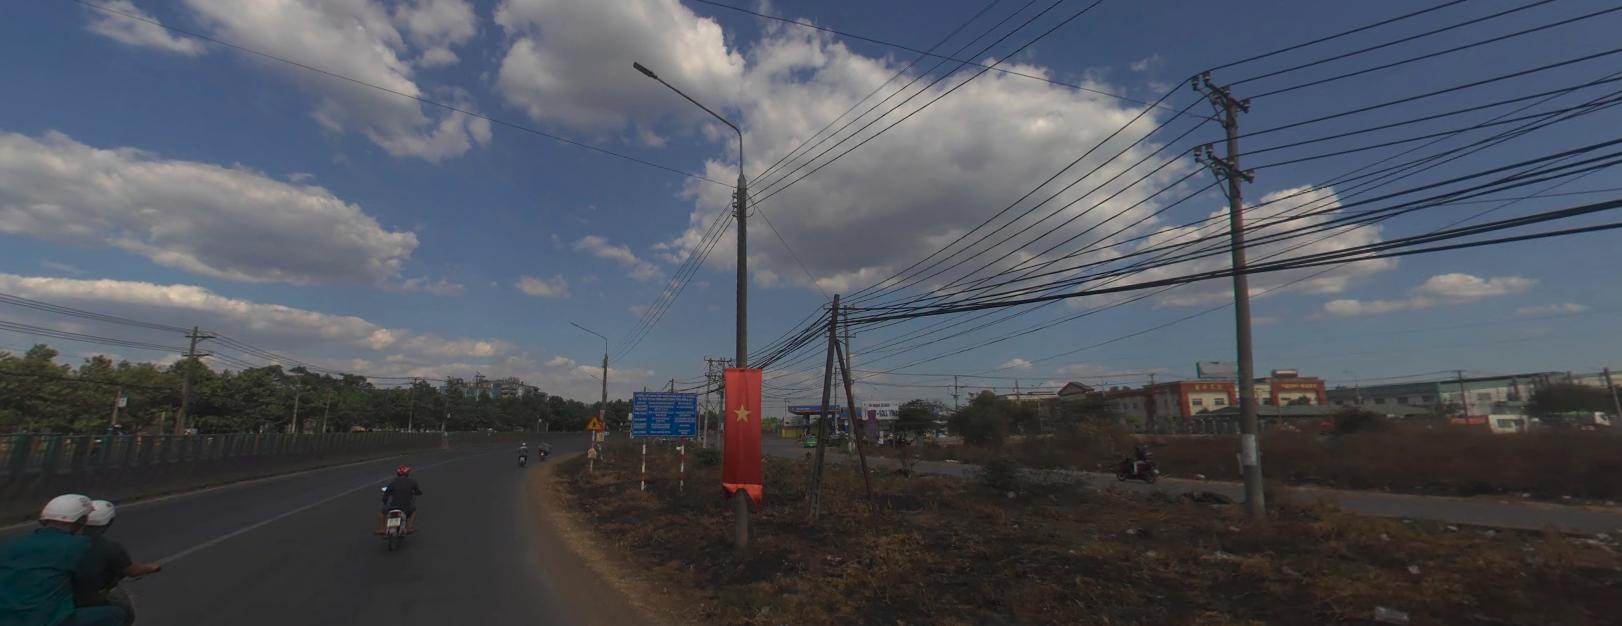Nguy hiem: (585, 413, 603, 428)
